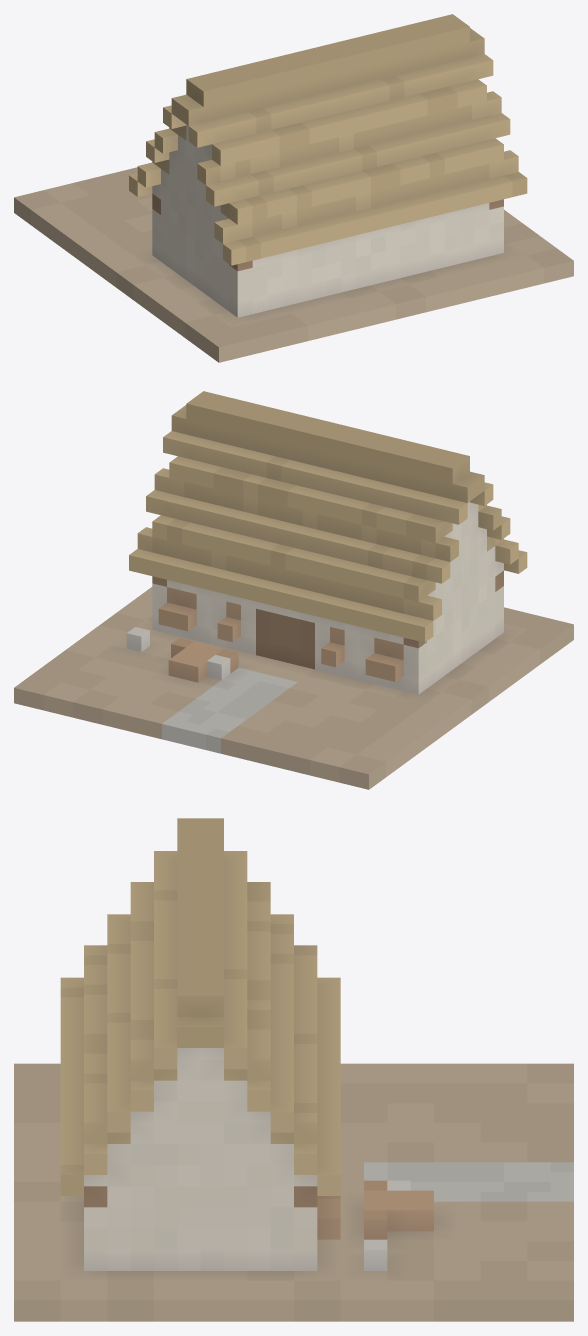
File: warehouse.l1.lite.glb
3 views of the same model, one above another, from view 1: azimuth 30°, elevation 25°; view 2: azimuth 150°, elevation 25°; view 3: azimuth 270°, elevation 25° (orthographic). The views are drawn at different scales.
Visible parts, largest first — view 1: warehouse; view 2: warehouse; view 3: warehouse.
Boxes of the visible parts, x1,y1,x2,y2 form: warehouse: (14,14,573,362); warehouse: (14,391,573,789); warehouse: (14,818,573,1321).
Bounding box in the file's own units: 6 × 3.5 × 6.
